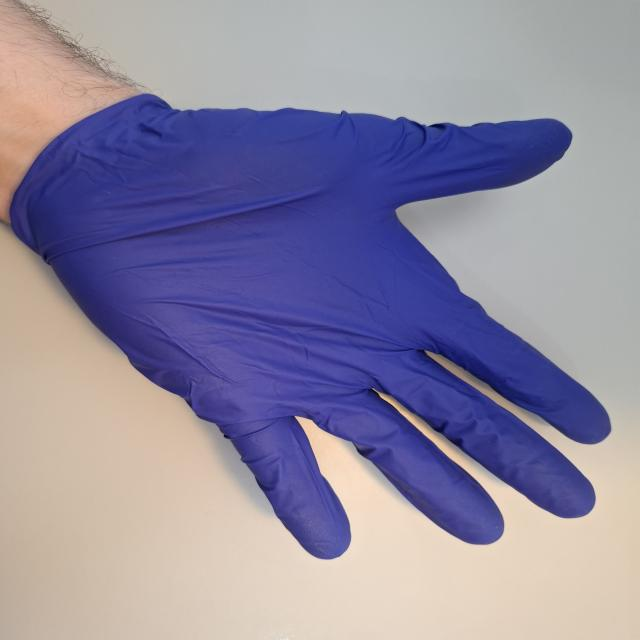glove_on: (7, 91, 619, 565)
